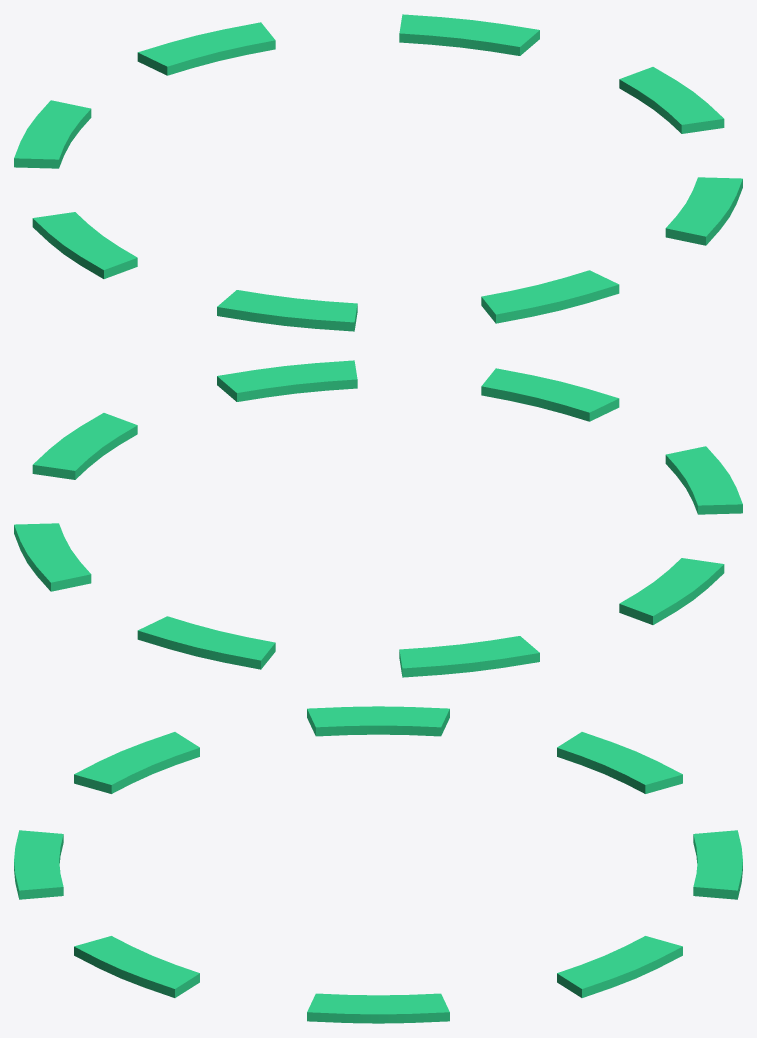
3 views of the same model, one above another, from view 1: azimuth 30°, elevation 25°; view 2: azimuth 150°, elevation 25°; view 3: azimuth 270°, elevation 25° (orthographic).
Visible parts, largest first — view 1: Circle; view 2: Circle; view 3: Circle.
Boxes of the visible parts, x1,y1,x2,y2 form: Circle: (14, 14, 742, 331); Circle: (14, 360, 742, 677); Circle: (14, 706, 742, 1023).
Bounding box in the file's own units: 1.99 × 0.0275 × 1.99.
